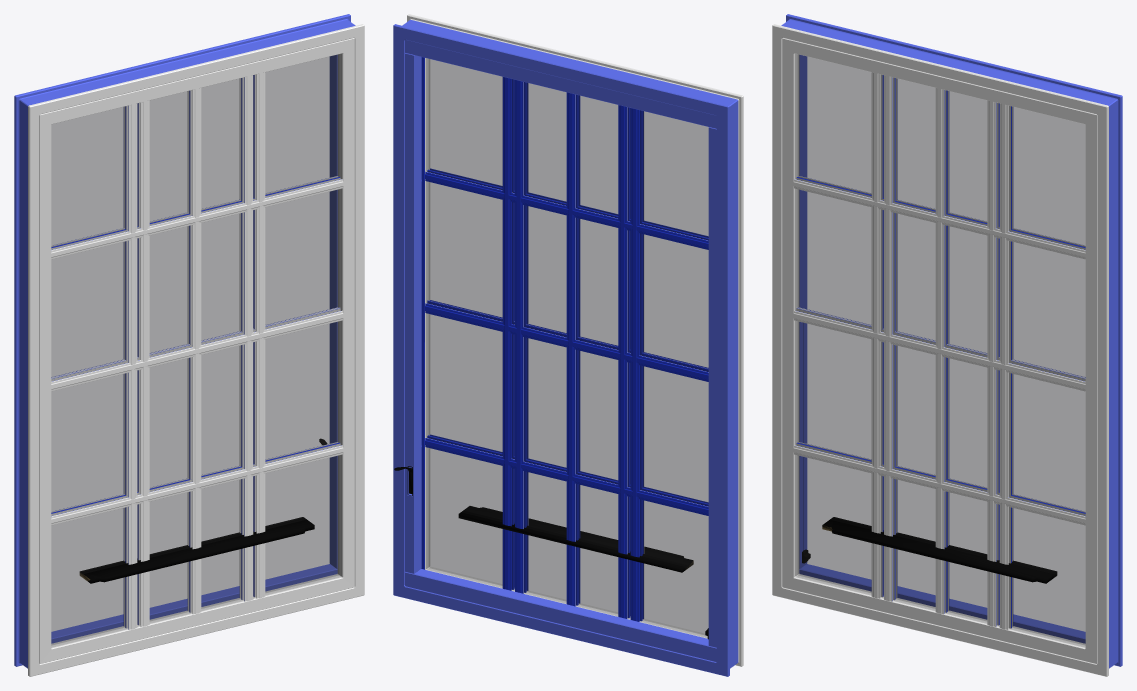
The model's file is Impervia_Casement.glb.
3 views of the same model, side by side, from view 1: azimuth 30°, elevation 25°; view 2: azimuth 150°, elevation 25°; view 3: azimuth 330°, elevation 25° (orthographic).
Visible parts, largest first — view 1: glass1, window, frame1, sdl2, sdl3, sdl0, bar2, Black, bar1, flat2, flat3; view 2: glass1, window, sdl2, bar2, sdl3, bar1, sdl0, frame1, flat2, Black, flat3, flat0; view 3: glass1, window, frame1, sdl2, sdl3, sdl0, bar2, Black, flat2, bar1, flat3, flat0 (+1 smaller).
Boxes of the visible parts, x1,y1,x2,y2 form: glass1: (51,54,341,647); window: (14,14,364,676); frame1: (39,38,354,663); sdl2: (51,75,343,626); sdl3: (123,72,265,629); sdl0: (51,88,343,614); bar2: (329,55,337,568); Black: (80,517,314,583); bar1: (51,564,337,643); flat2: (51,308,340,514); flat3: (125,106,126,628); glass1: (426,58,708,637); window: (393,14,743,676); sdl2: (425,80,708,618); bar2: (405,53,716,647); sdl3: (502,77,644,621); bar1: (405,40,716,661); sdl0: (425,92,708,606); frame1: (421,57,707,638); flat2: (427,82,708,618); Black: (458,506,692,572); flat3: (511,79,642,621); flat0: (576,94,577,605); glass1: (795,54,1085,647); window: (772,14,1122,676); frame1: (782,38,1097,663); sdl2: (793,75,1085,626); sdl3: (871,72,1013,629); sdl0: (793,88,1085,614); bar2: (799,55,807,568); Black: (822,517,1057,583); flat2: (796,78,1085,625); bar1: (799,564,1085,643); flat3: (1010,106,1011,628); flat0: (946,90,947,612).
Bounding box in the file's own units: 0.7966 × 1.3 × 0.149.
